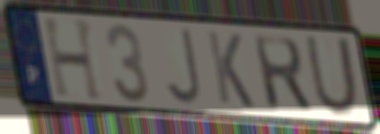3: (105, 21, 150, 104)
H: (40, 16, 107, 104)
J: (162, 25, 204, 107)
K: (204, 28, 257, 112)
R: (250, 33, 315, 115)
U: (303, 33, 361, 120)
